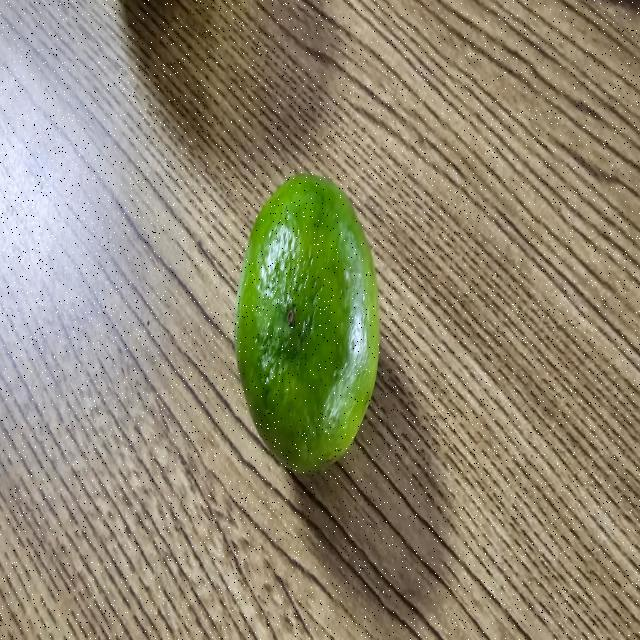Lemon: (231, 168, 390, 508)
